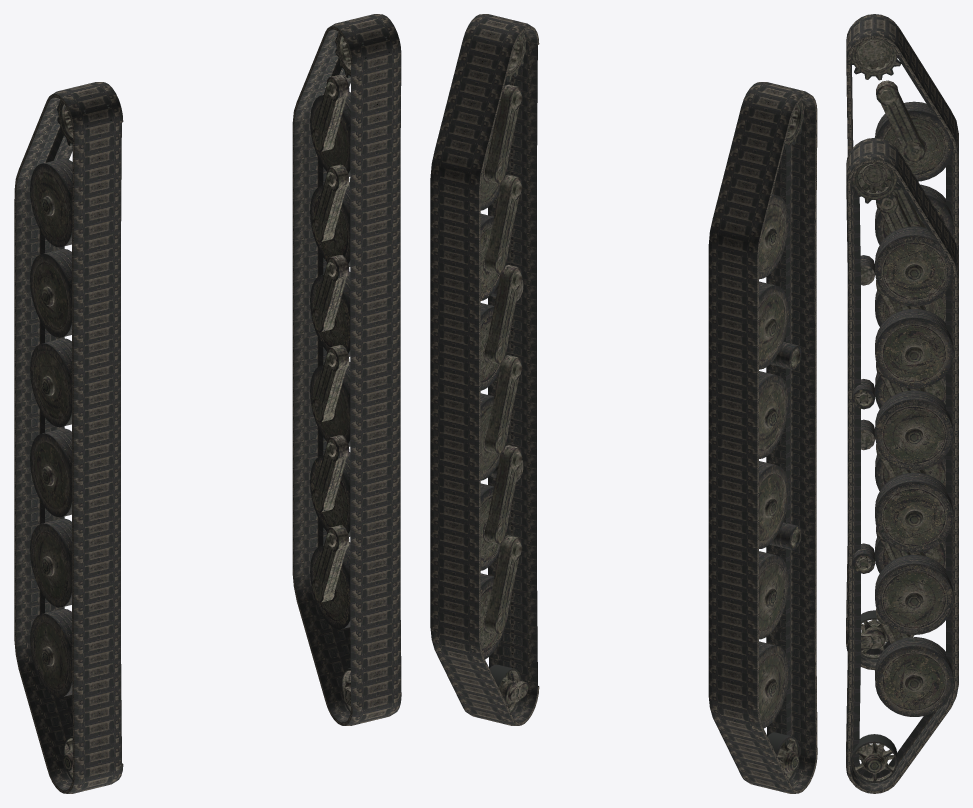
Rendered from Chassis.glb.
The picture shows the model from 3 angles, left to right: view 1: azimuth 30°, elevation 25°; view 2: azimuth 150°, elevation 25°; view 3: azimuth 270°, elevation 25°; orthographic projection. The views are drawn at different scales.
Visible parts, largest first — view 1: set_1_group_0, set_0_group_0, set_3_group_0, set_2_group_0; view 2: set_0_group_0, set_1_group_0, set_3_group_0, set_2_group_0; view 3: set_3_group_0, set_1_group_0, set_2_group_0, set_0_group_0.
Boxes of the visible parts, x1,y1,x2,y2 form: set_1_group_0: [292, 14, 401, 725]; set_0_group_0: [14, 82, 123, 793]; set_3_group_0: [310, 24, 389, 712]; set_2_group_0: [30, 92, 112, 780]; set_0_group_0: [708, 82, 817, 793]; set_1_group_0: [430, 14, 539, 725]; set_3_group_0: [480, 32, 528, 712]; set_2_group_0: [759, 100, 804, 780]; set_3_group_0: [846, 144, 953, 783]; set_1_group_0: [846, 137, 958, 793]; set_2_group_0: [846, 20, 953, 659]; set_0_group_0: [846, 14, 958, 670].
Size of the model in its own units: 3.03 by 6.18 by 0.9937.
4 materials, 4 textured.
